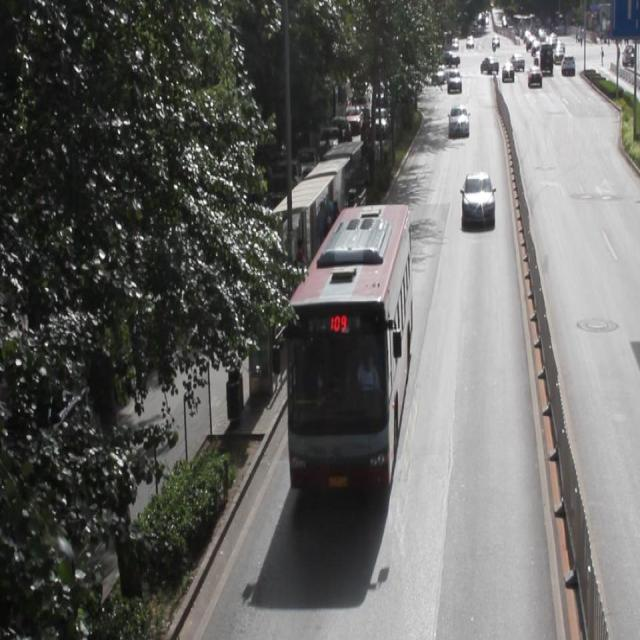car: (459, 171, 492, 220), (446, 103, 468, 133)
van: (286, 202, 408, 487)
